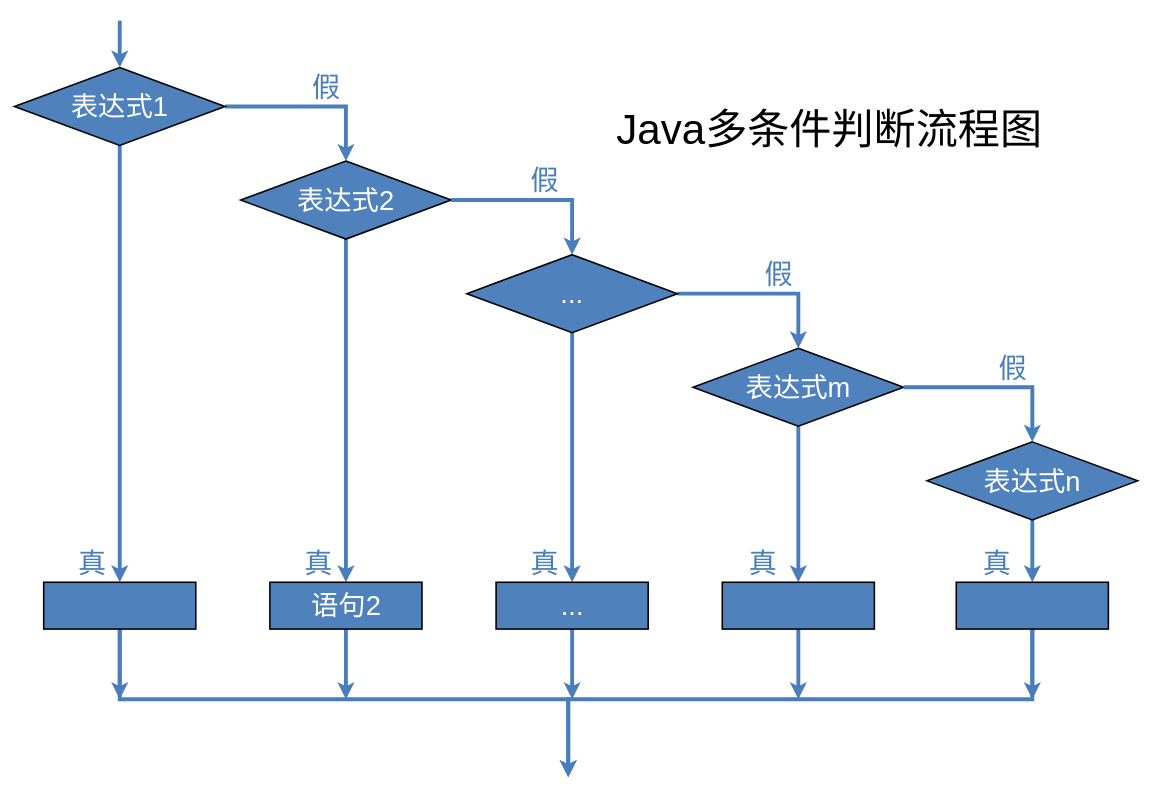
Some shapes in this 1151 by 799 pixel diagram are drawn without their labels. The centre of each missing label's shape, as x and y in pixels:
"语句1" goes at pixel 119 605.
"语句m" goes at pixel 798 605.
"语句n" goes at pixel 1032 605.
